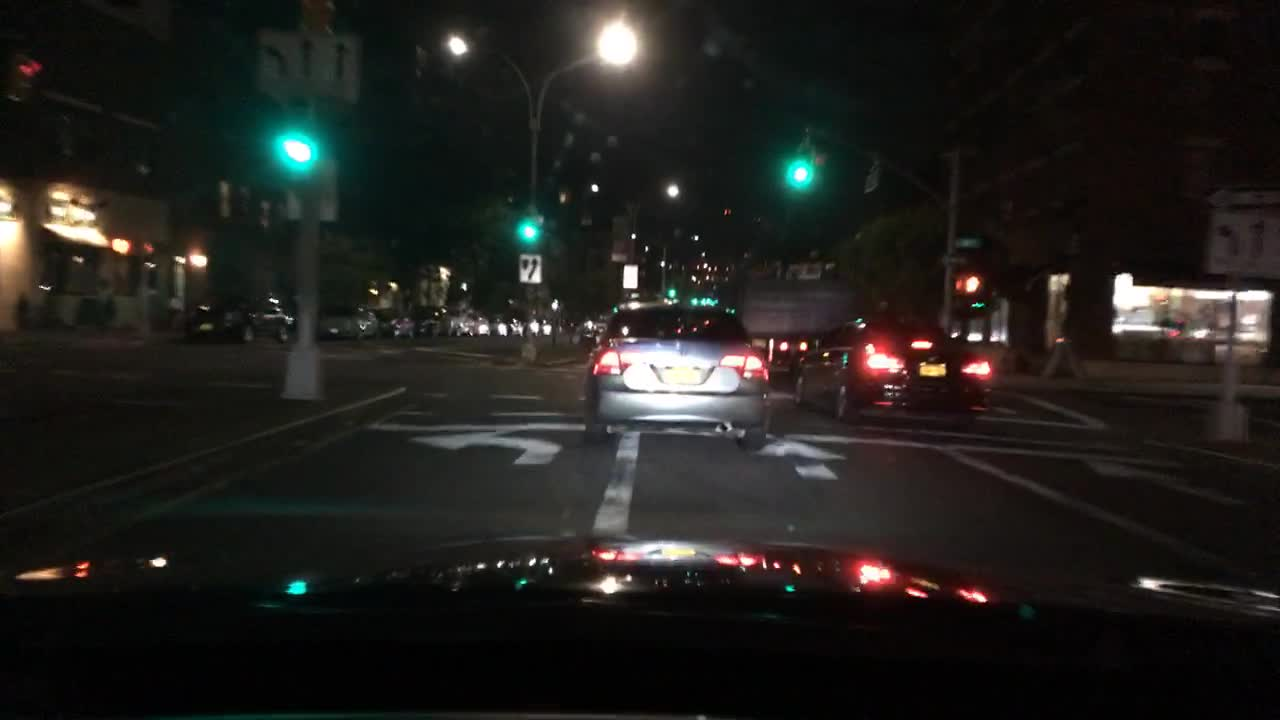car: (584, 296, 768, 450), (793, 316, 995, 420), (182, 289, 295, 342), (321, 303, 376, 341), (375, 306, 415, 339), (413, 306, 444, 339), (464, 309, 494, 333), (583, 310, 603, 342), (445, 309, 465, 335), (490, 315, 512, 338), (528, 319, 554, 336), (509, 319, 528, 339)
person: (93, 272, 113, 322)
traffic light: (3, 52, 44, 94), (780, 154, 820, 192), (275, 131, 315, 165), (955, 272, 987, 296), (516, 215, 540, 241), (696, 293, 715, 303), (664, 286, 679, 296)
traffic sign: (258, 32, 358, 94), (280, 129, 339, 222), (1204, 209, 1276, 277), (1207, 180, 1276, 205), (517, 252, 540, 283), (861, 160, 880, 189), (620, 264, 640, 287), (953, 237, 984, 247), (943, 254, 969, 261)
truck: (719, 272, 871, 379)
